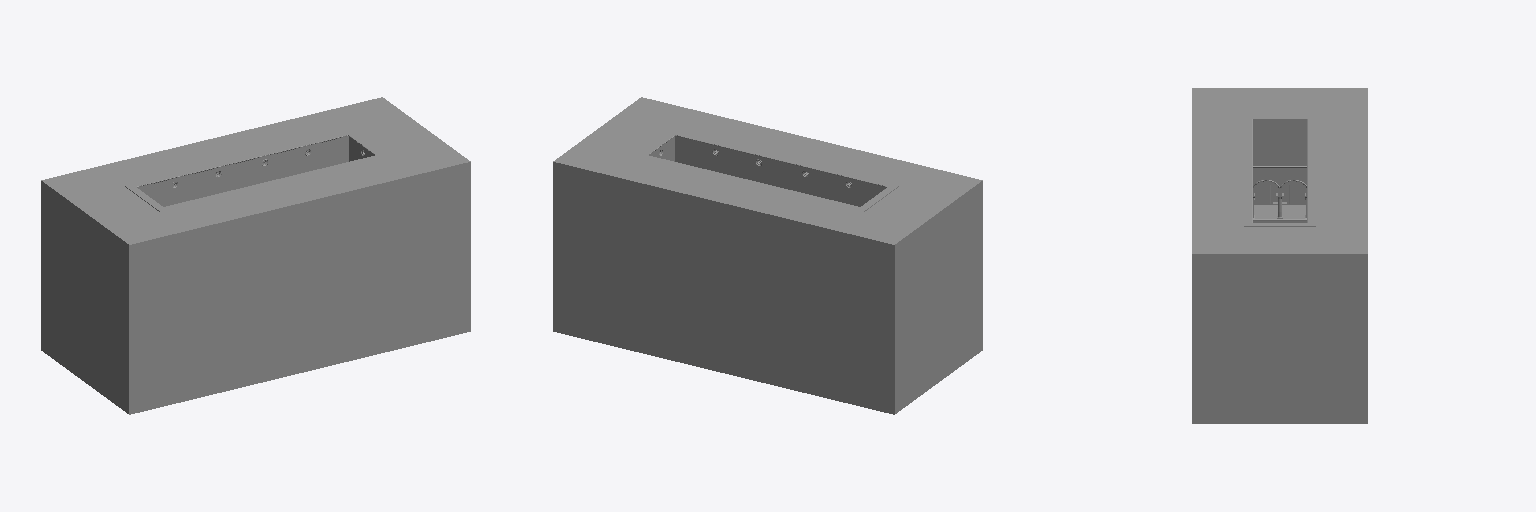
Rendered from sponza_tri_mtl.obj.
3 renders of one model, left to right at view 1: azimuth 30°, elevation 25°; view 2: azimuth 150°, elevation 25°; view 3: azimuth 270°, elevation 25°, orthographic.
Visible parts, largest first — view 1: sponza.lwo_sp_zid_van, sponza.lwo_sp_00_zid, sponza.lwo_sp_vijenac; view 2: sponza.lwo_sp_zid_van, sponza.lwo_sp_00_zid, sponza.lwo_sp_vijenac; view 3: sponza.lwo_sp_zid_van, sponza.lwo_sp_00_zid, sponza.lwo_sp_vijenac, sponza.lwo_sp_02_relj, sponza.lwo_sp_vij.
Boxes of the visible parts, x1=… form: sponza.lwo_sp_zid_van: x1=41, y1=97, x2=470, y2=414; sponza.lwo_sp_00_zid: x1=125, y1=136, x2=374, y2=211; sponza.lwo_sp_vijenac: x1=125, y1=130, x2=387, y2=211; sponza.lwo_sp_zid_van: x1=553, y1=97, x2=982, y2=414; sponza.lwo_sp_00_zid: x1=649, y1=136, x2=898, y2=211; sponza.lwo_sp_vijenac: x1=636, y1=130, x2=898, y2=211; sponza.lwo_sp_zid_van: x1=1192, y1=88, x2=1367, y2=423; sponza.lwo_sp_00_zid: x1=1244, y1=120, x2=1315, y2=226; sponza.lwo_sp_vijenac: x1=1244, y1=116, x2=1315, y2=225; sponza.lwo_sp_02_relj: x1=1260, y1=136, x2=1299, y2=165; sponza.lwo_sp_vij: x1=1251, y1=119, x2=1308, y2=222.
Bounding box in the file's own units: 3.48 × 1.66 × 1.56.